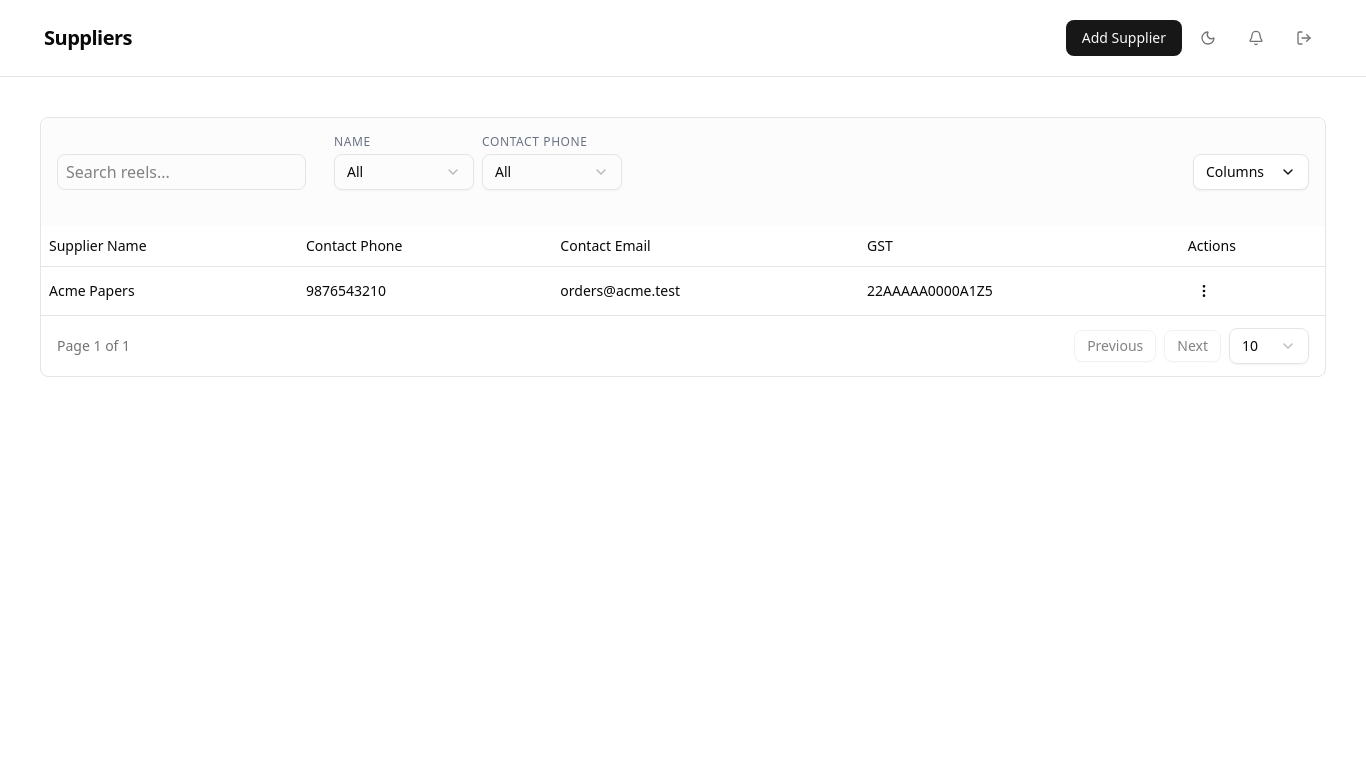
Scenario: SuppliersClient › opens and closes the add dialog
The width and height of the screenshot is (1366, 768).
Click the button "Add Supplier": coordinates (1124, 38) [1066,20,1182,56]
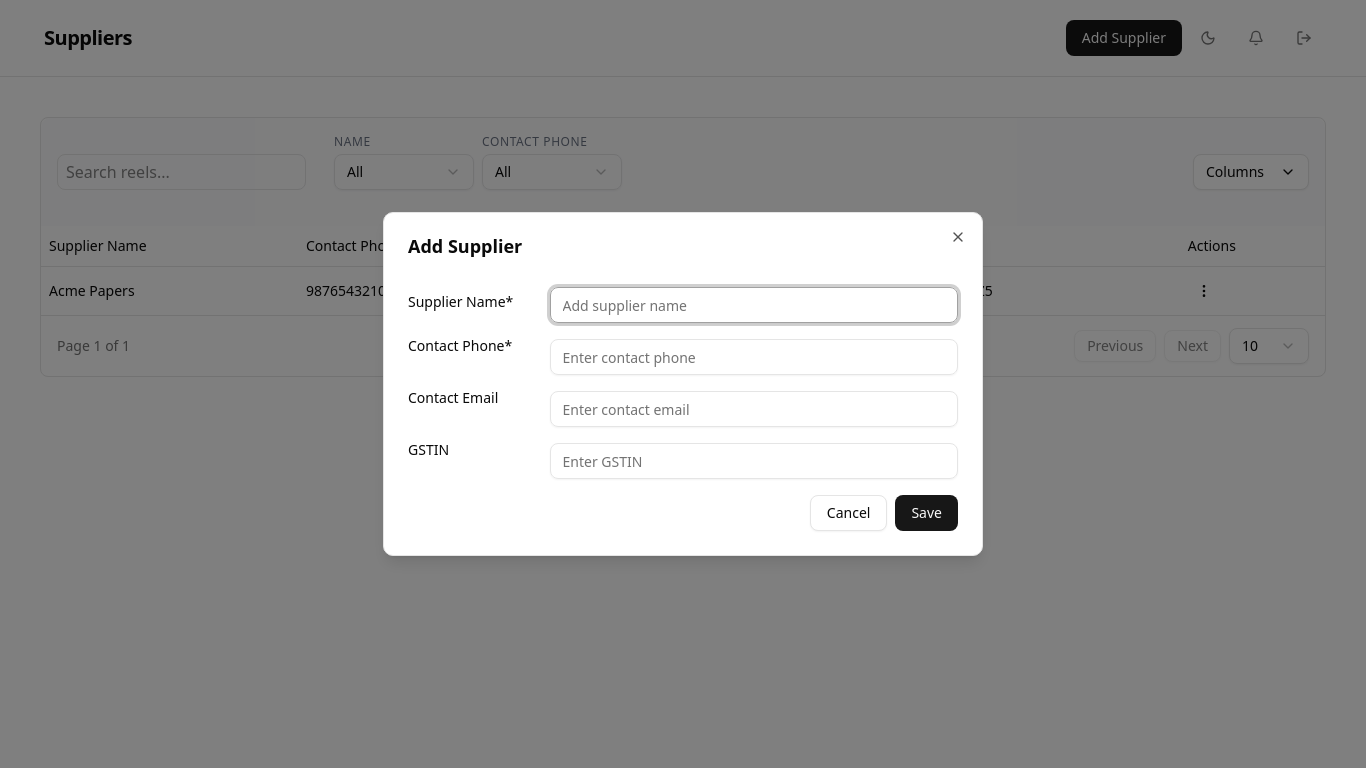
Expected: the dialog is shown, [383,212,983,556]
Click the button "Cancel": coordinates (849, 513) [810,495,887,531]
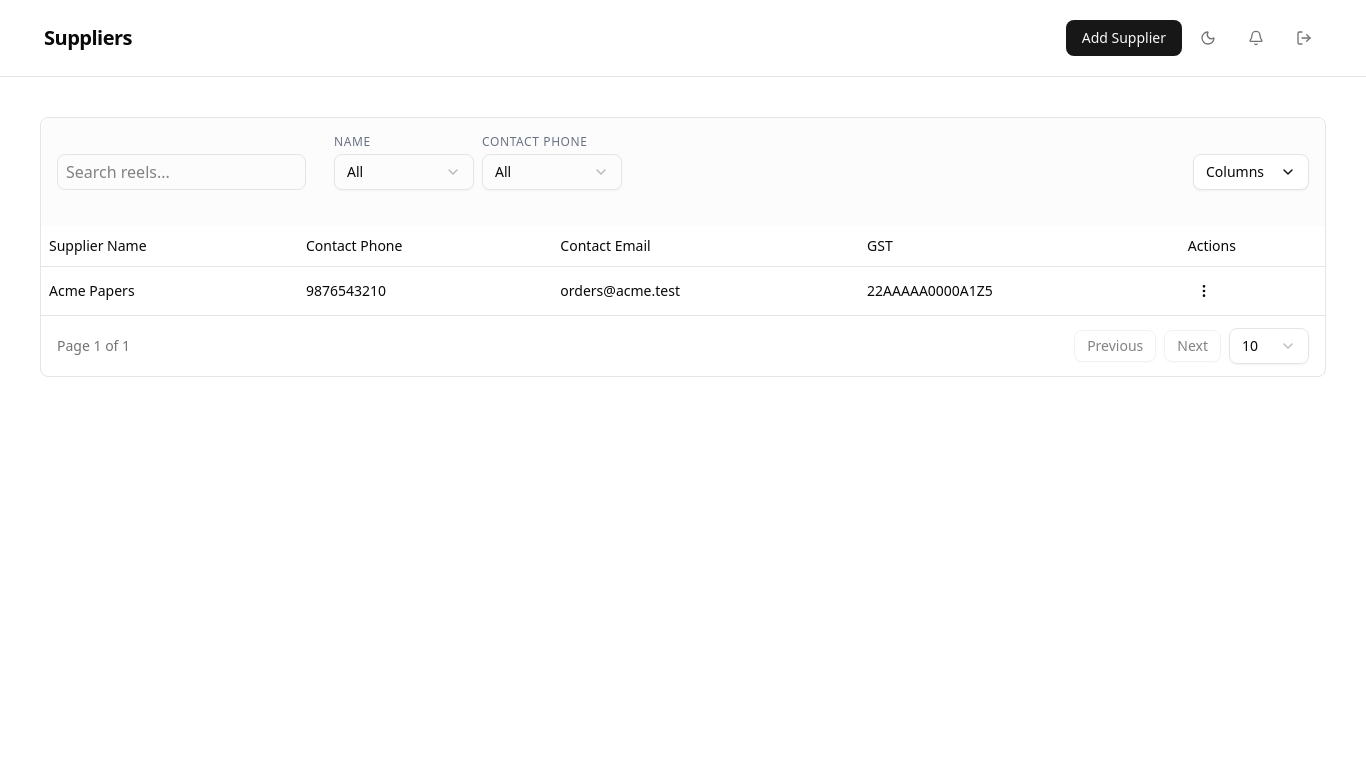
Expected: the dialog is gone
